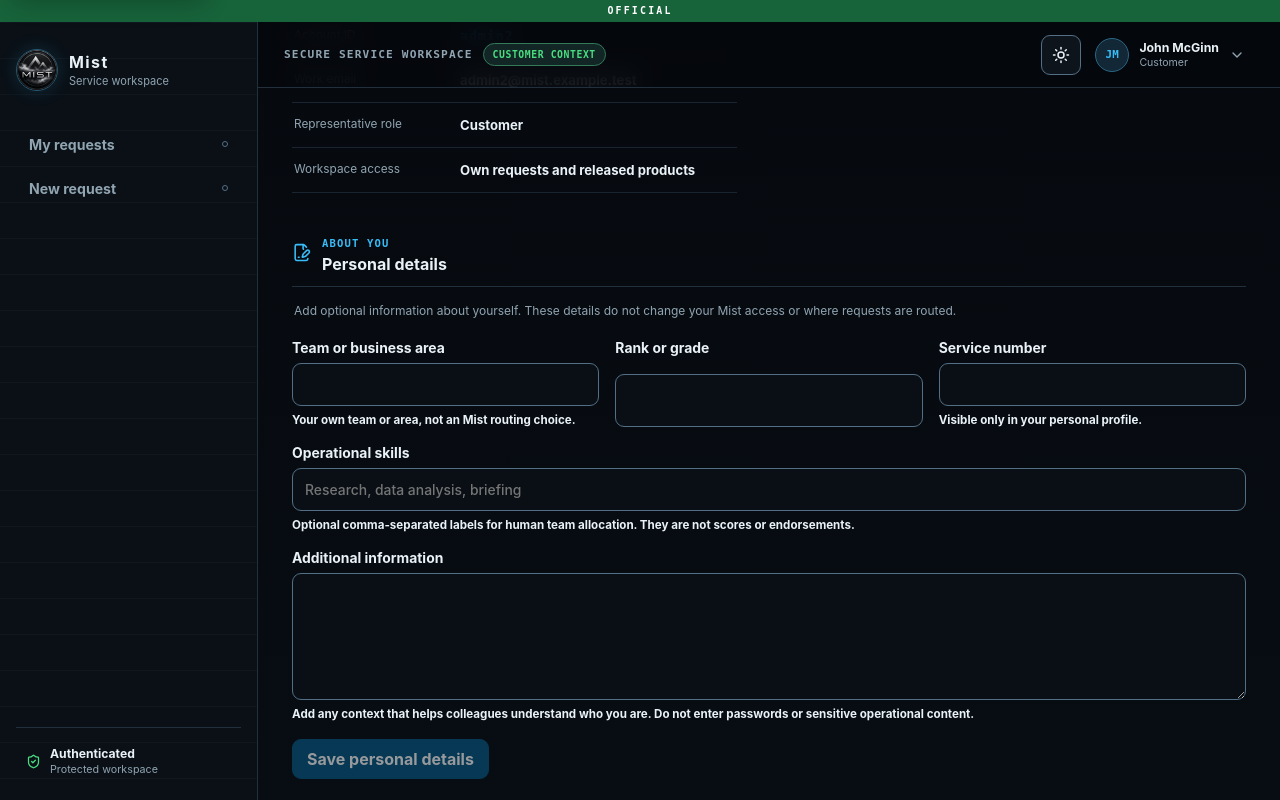
Test: personal profile › sends blank optional fields as null and reports a save conflict
The width and height of the screenshot is (1280, 800).
(page scrolled)
Type "Grade 6" into the field labelled "Rank or grade" at coordinates (769, 401), box [615,374,923,427]
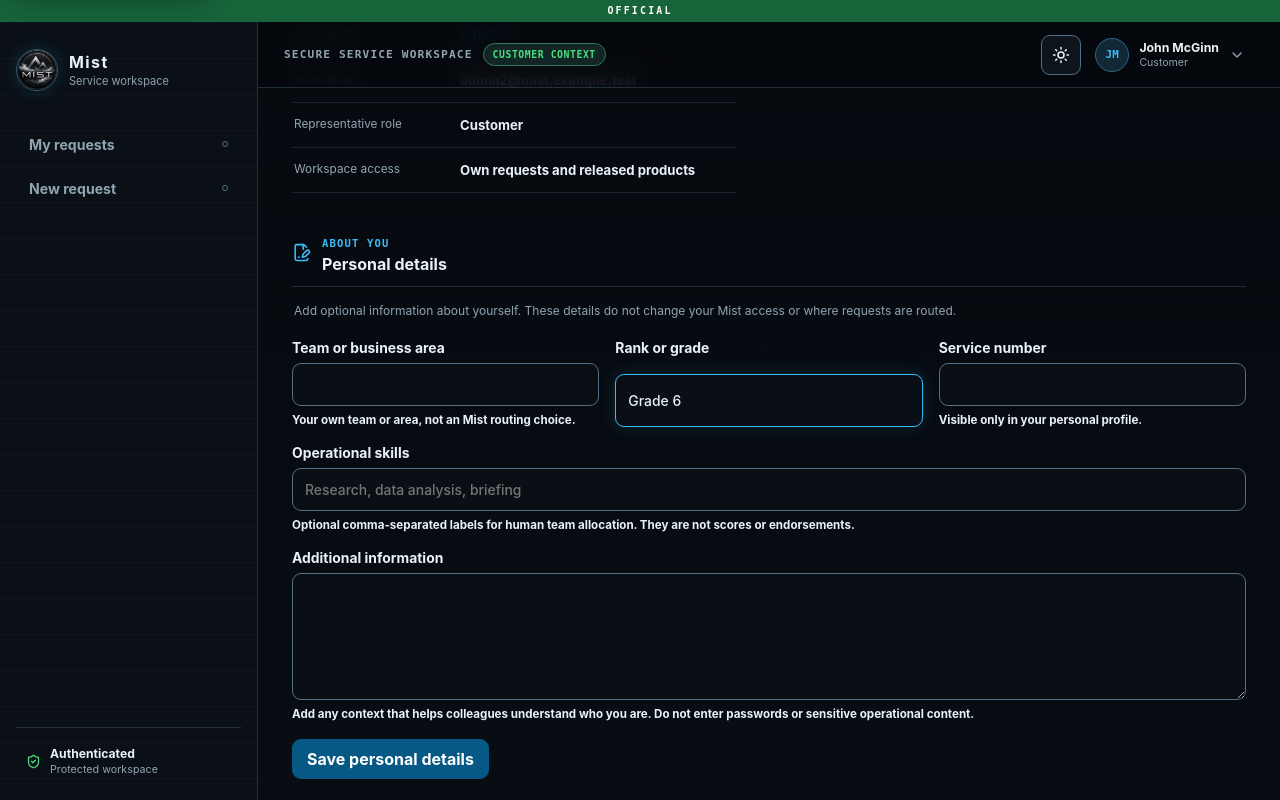
Click the button "Save personal details" at coordinates (390, 759), box [292,739,489,779]
(page scrolled)
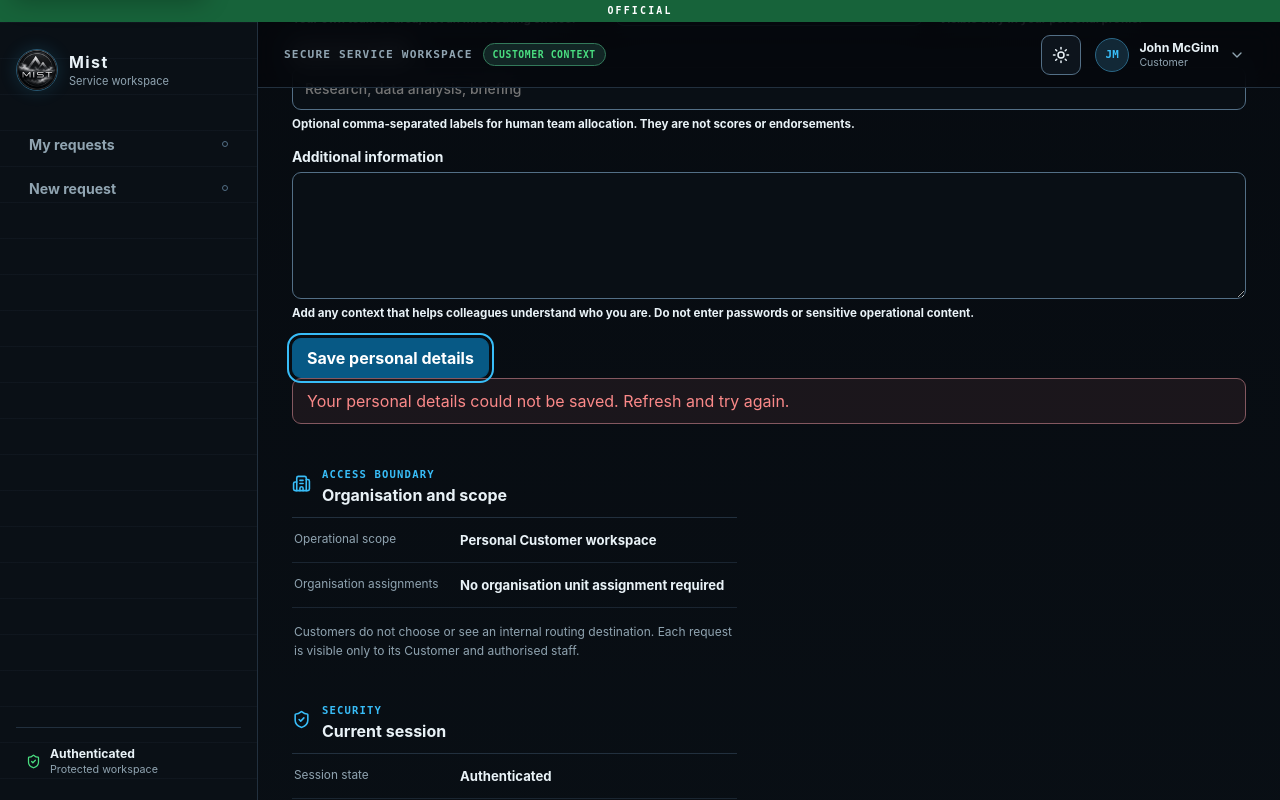
Expected: the message shows "personal details could not be saved", [307,391,790,411]
